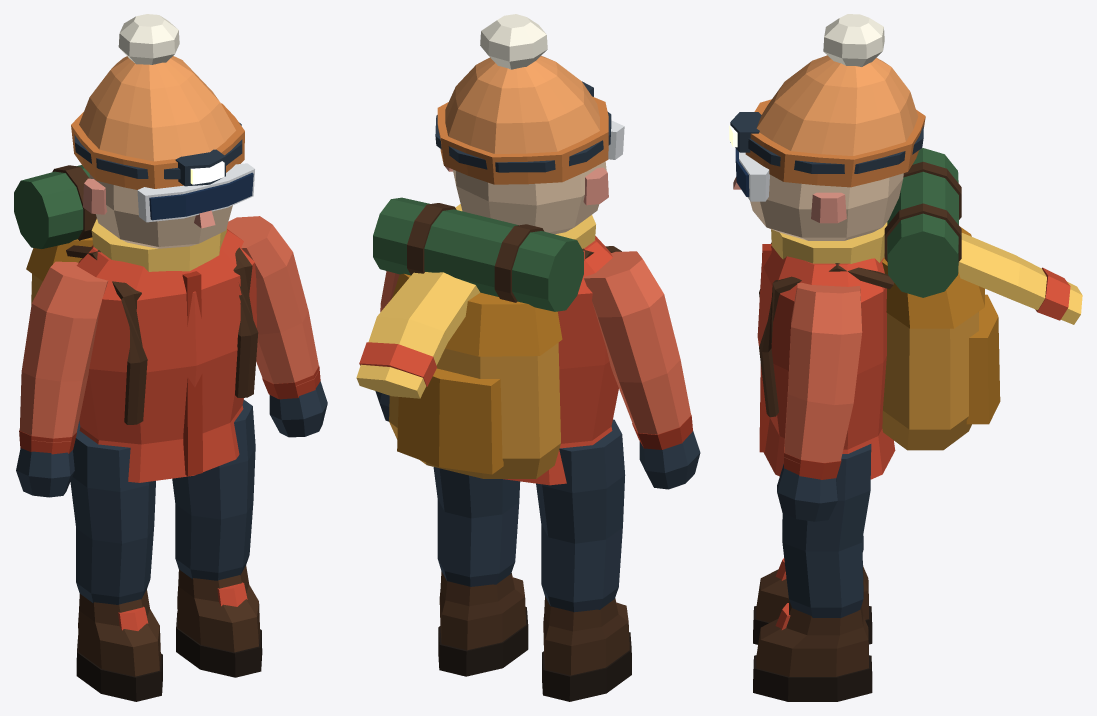
Rendered from explorer.glb.
The picture shows the model from 3 angles, left to right: view 1: azimuth 30°, elevation 25°; view 2: azimuth 150°, elevation 25°; view 3: azimuth 270°, elevation 25°; orthographic projection. The views are drawn at different scales.
Visible parts, largest first — view 1: Torso, Head, LeftLeg, RightLeg, LeftArm, RightArm, HeadlampLens; view 2: Torso, Head, LeftLeg, RightLeg, LeftArm, Scarf, RightArm; view 3: Torso, Head, RightLeg, RightArm, Scarf, LeftLeg.
Part boxes in pixels (<box>): Torso: <box>14,165,258,482</box>; Head: <box>71,14,254,248</box>; LeftLeg: <box>70,421,162,701</box>; RightLeg: <box>172,399,262,677</box>; LeftArm: <box>16,261,107,497</box>; RightArm: <box>227,216,327,437</box>; HeadlampLens: <box>190,161,224,184</box>; Torso: <box>373,197,621,485</box>; Head: <box>435,14,624,234</box>; LeftLeg: <box>536,419,631,701</box>; RightLeg: <box>433,467,528,676</box>; LeftArm: <box>583,251,700,489</box>; Scarf: <box>356,272,479,398</box>; RightArm: <box>375,271,399,421</box>; Torso: <box>757,148,1000,479</box>; Head: <box>730,14,925,240</box>; RightLeg: <box>753,444,872,701</box>; RightArm: <box>777,282,862,521</box>; Scarf: <box>884,233,1082,324</box>; LeftLeg: <box>753,535,872,644</box>.
Bounding box in the file's own units: 0.7861 × 1.58 × 0.7876.
